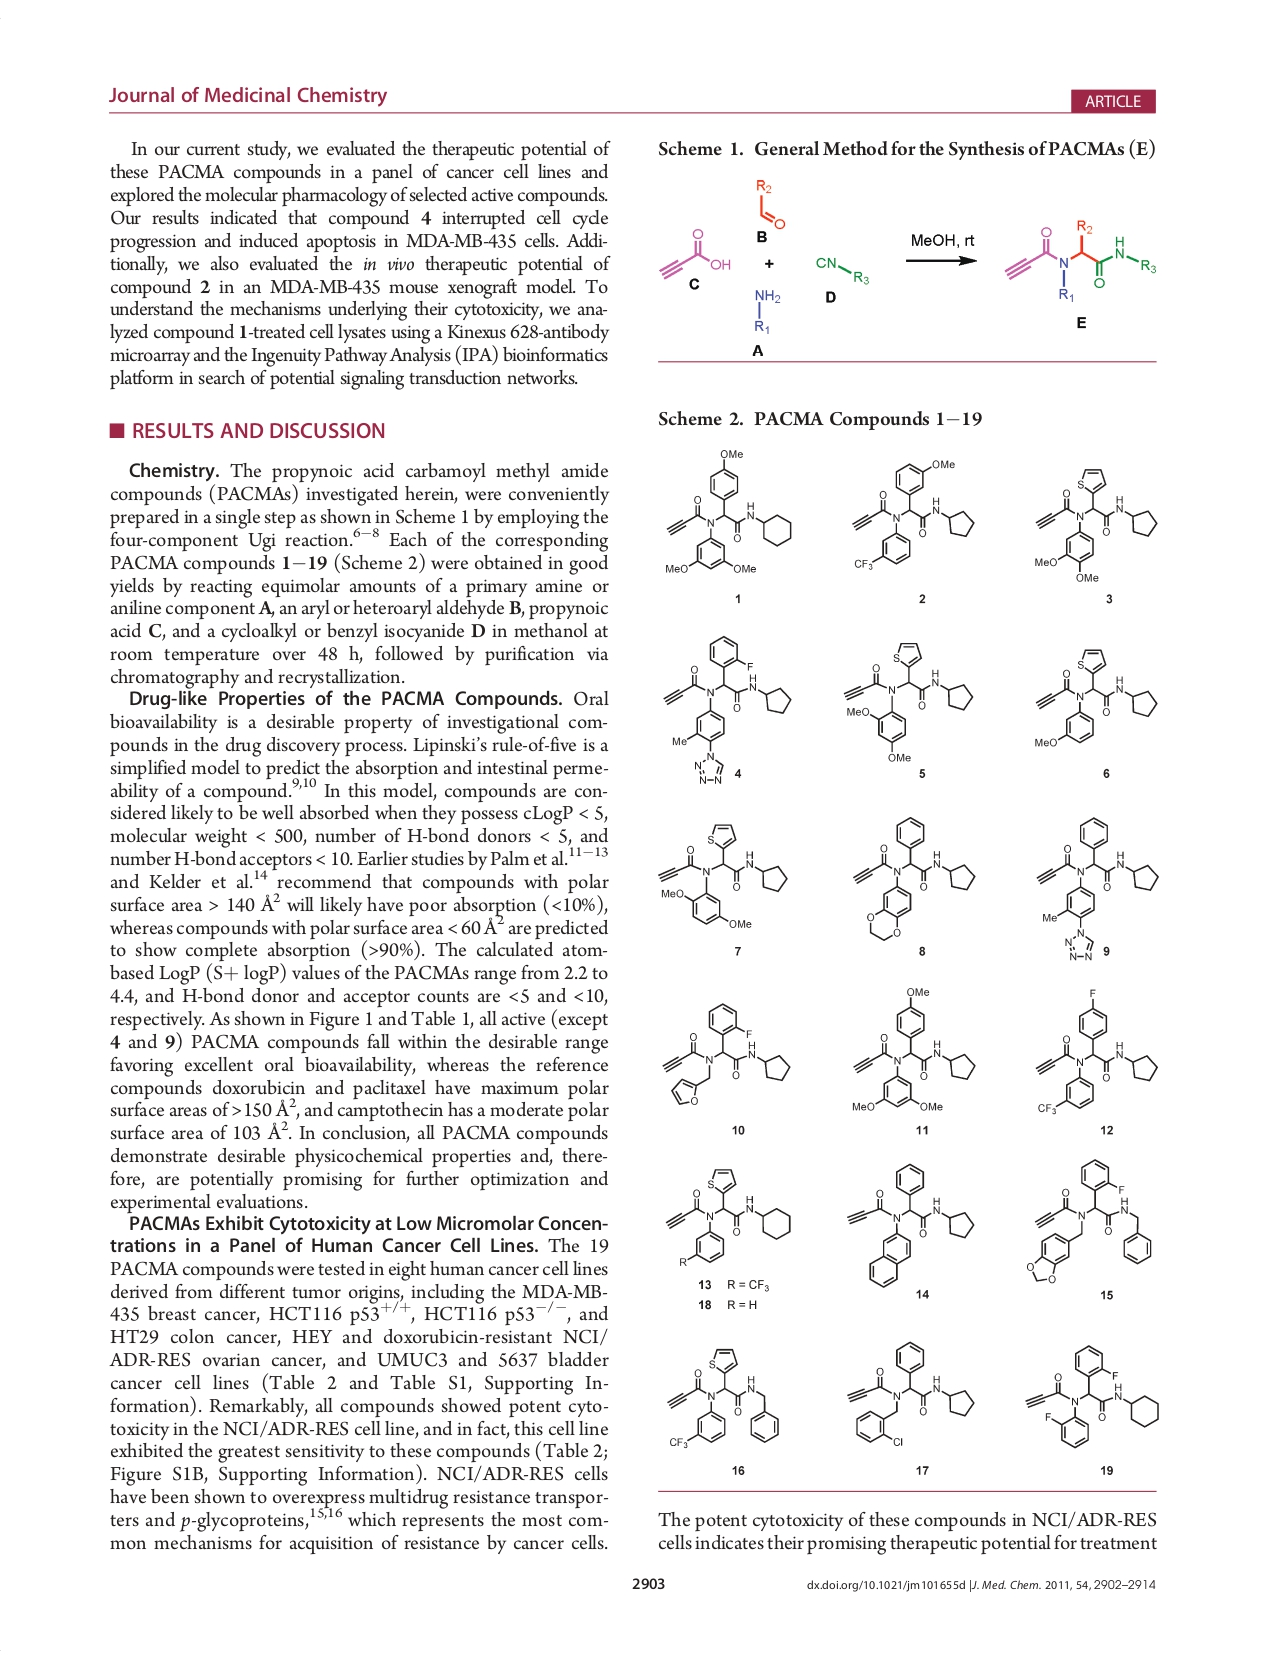exist_molecular: (661, 632, 793, 787), (1035, 814, 1160, 962), (848, 813, 977, 946), (1025, 1154, 1154, 1285), (848, 985, 977, 1114), (844, 1161, 973, 1290), (664, 447, 794, 575), (840, 638, 973, 763), (1035, 985, 1160, 1117), (1029, 463, 1160, 586), (657, 821, 789, 935), (848, 456, 976, 572), (1023, 1342, 1160, 1448), (844, 1338, 979, 1446), (658, 999, 793, 1105), (1005, 215, 1160, 303), (664, 1165, 795, 1267), (1033, 648, 1160, 750), (665, 1346, 785, 1451), (656, 223, 731, 282), (751, 172, 794, 231), (814, 250, 871, 290), (747, 286, 786, 336)
